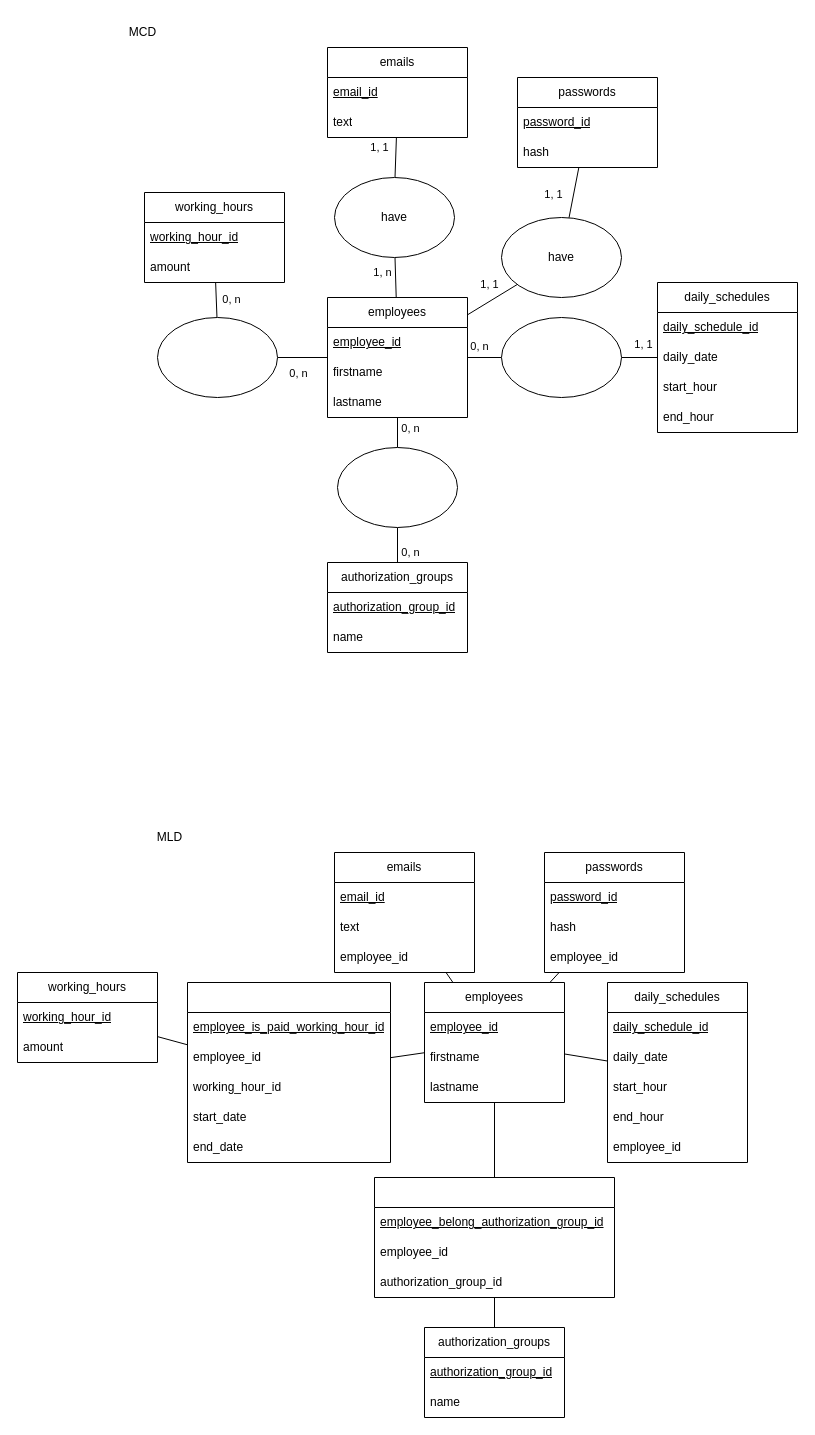
Some shapes in this 815 by 1435 pixel diagram are drawn without their labels. The shapes that lost their labels are listed below. From the top down, each one's box as (x1, y1, x2, y2) in pixels, then its label:
(156, 316, 278, 398): is_paid -------------------------- start_date end_date
(500, 316, 622, 398): do
(336, 446, 458, 528): belong
(186, 982, 390, 1162): employees_is_paid_working_hours
(374, 1176, 614, 1298): employees_belong_authorization_groups
